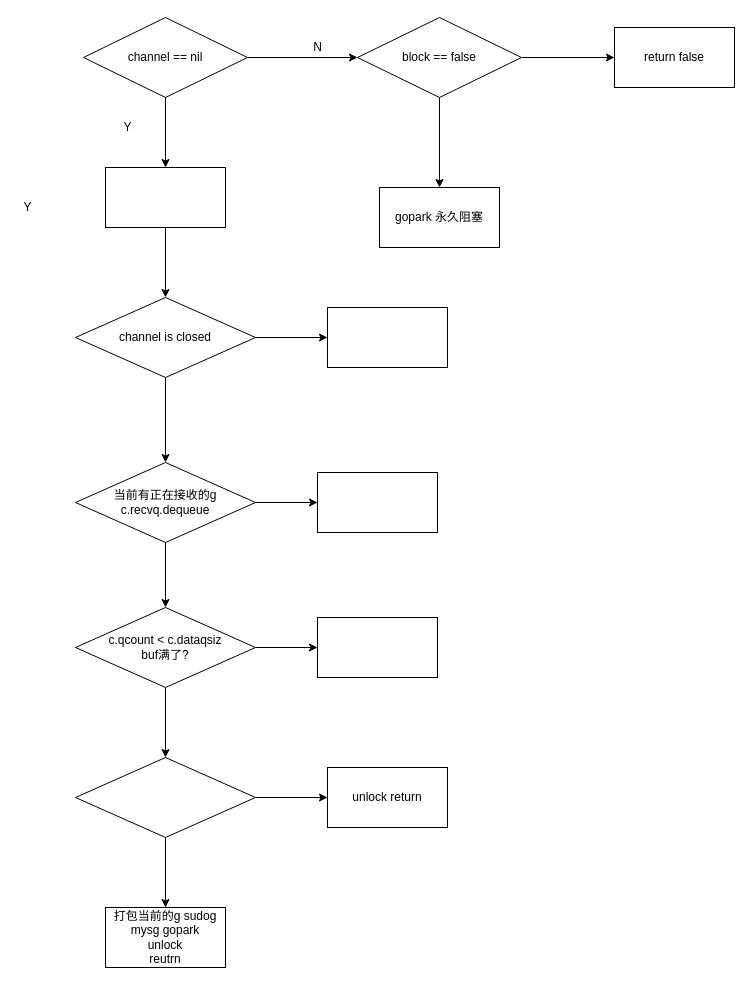
This 752x985 diagram has some shape labels left out. Each missing label, with the centre of its shape:
block == false 非阻塞: (165,797)
lock hchan: (165,197)
panic unlock hchan: (387,337)
写入buf修改索引 unlock: (377,647)
直接发送到当前的的接收的g unlock: (377,502)
